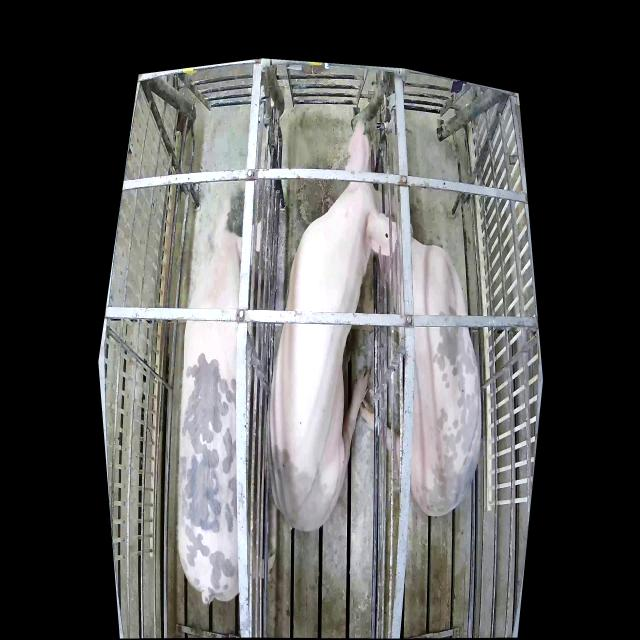pig: (268, 115, 399, 530), (360, 192, 482, 519), (178, 208, 276, 607)
